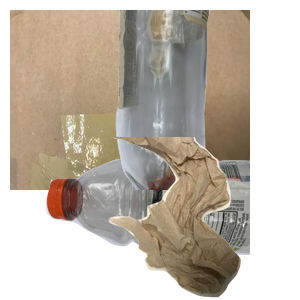cardboard: (10, 10, 250, 190)
glass: (113, 10, 300, 190)
plastic: (43, 152, 283, 300)
trash: (103, 137, 300, 300)
